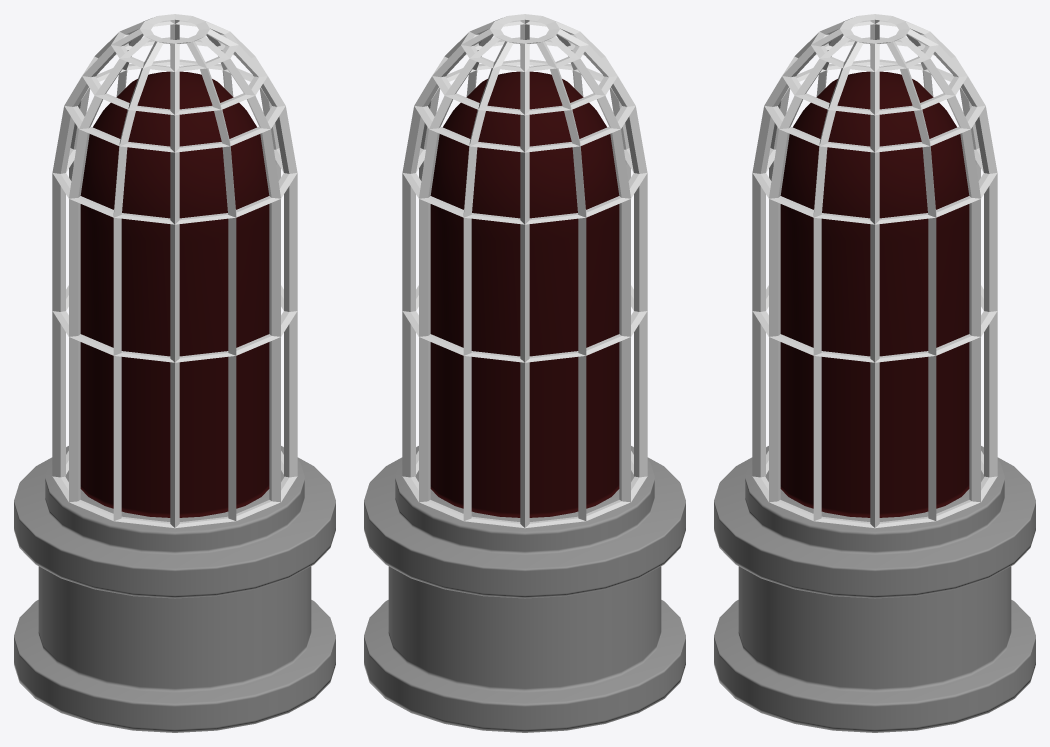
File: Red_WarningLight_Off.fbx
3 renders of one model, left to right at view 1: azimuth 30°, elevation 25°; view 2: azimuth 150°, elevation 25°; view 3: azimuth 270°, elevation 25°, orthographic.
Parts seen in each view (by area): view 1: FloodLight; view 2: FloodLight; view 3: FloodLight.
Boxes of the visible parts, x1,y1,x2,y2 form: FloodLight: (14,14,335,732); FloodLight: (364,14,685,732); FloodLight: (714,14,1035,732).
Size of the model in its own units: 52 by 113 by 52.
